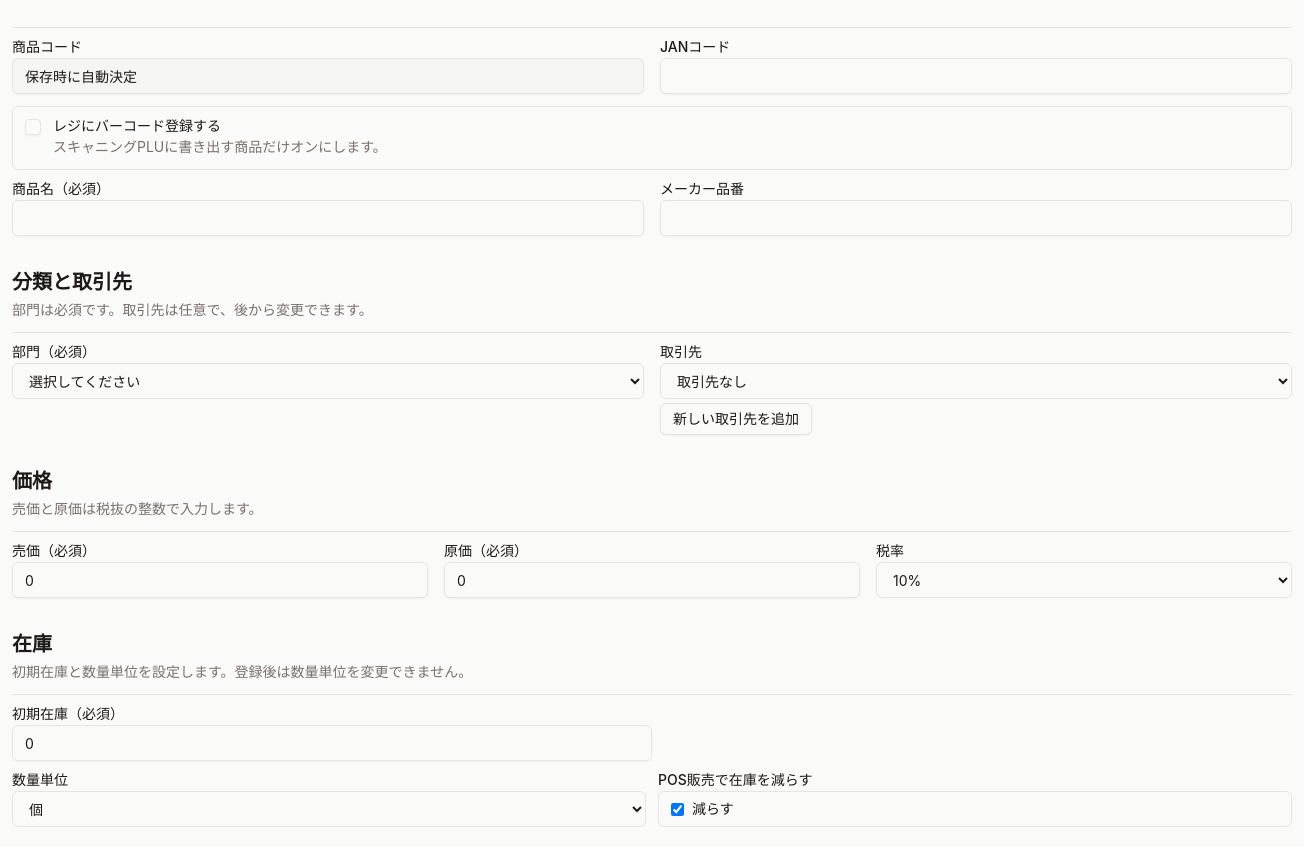
Test case: ProductForm (UI-01b) › stateful wrapper (lost-update integration) › after checkbox interaction (touched=true), unit change preserves user override
(page scrolled)
# まず checkbox を操作して touched を立てる（posStockSync を false に変更）
Click the checkbox labelled "POS販売で在庫を減らす": (678, 809) [671,802,684,816]
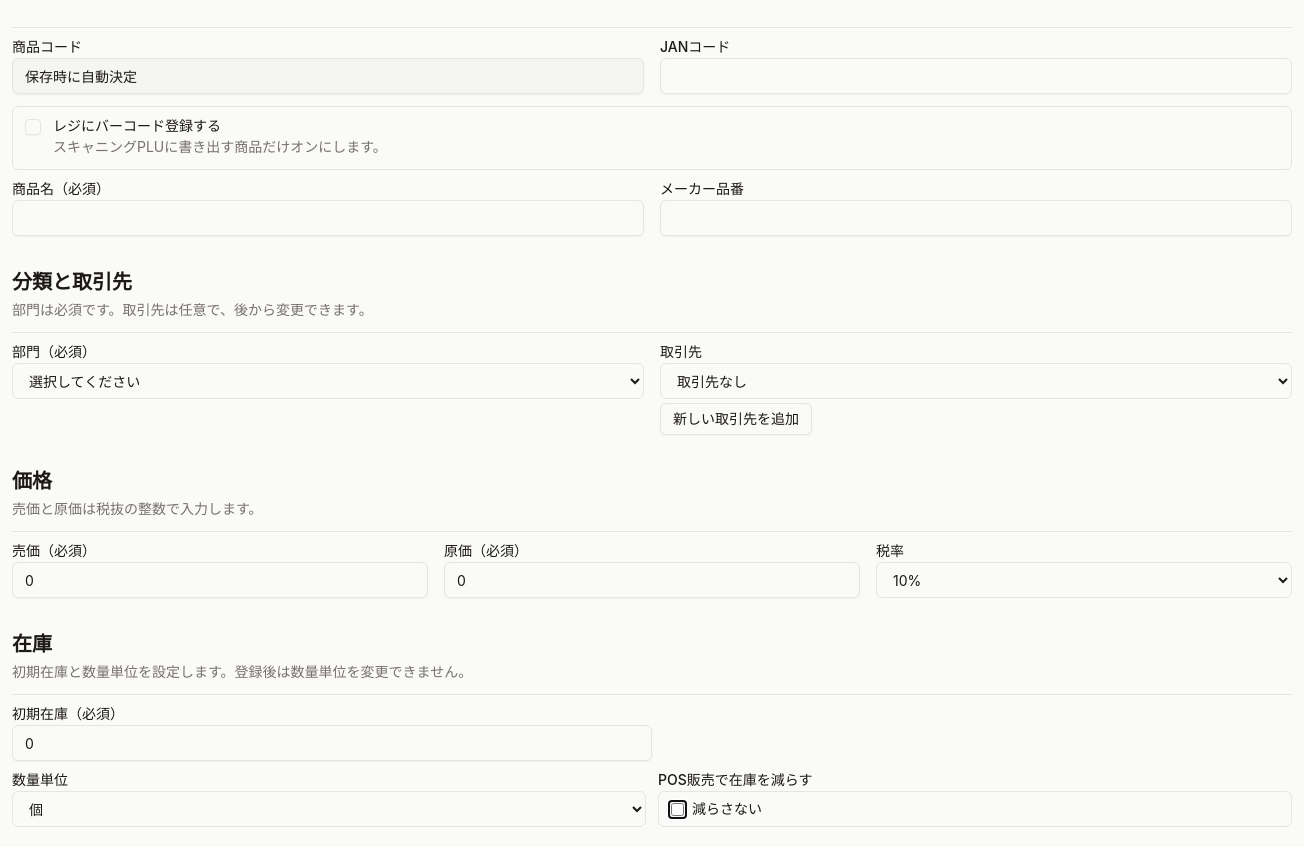
# 単位を cm に変更しても suggest が発火しないので利用者の false が保持される
Select "cm" in the dropdown labelled "数量単位": (329, 809) [12,791,646,827]
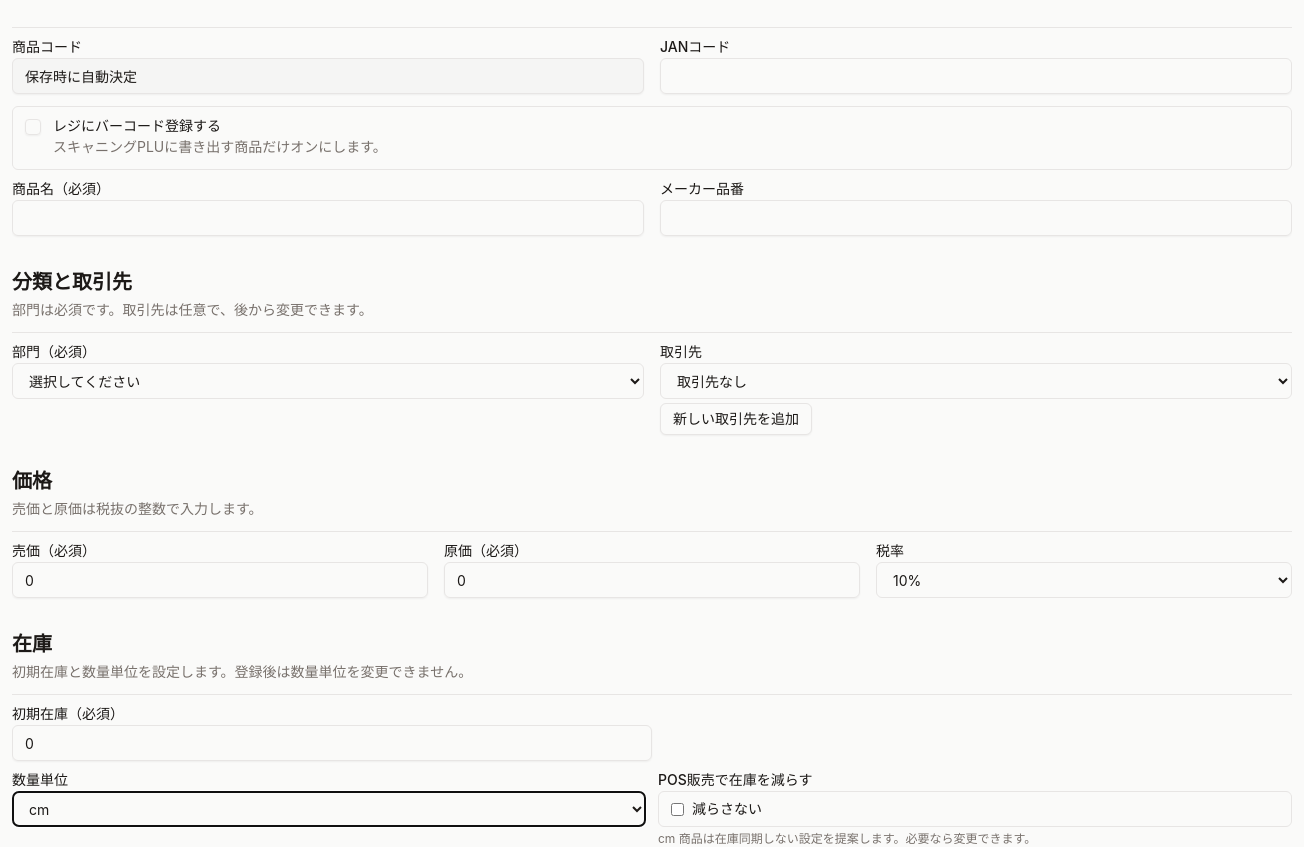
# 単位を pcs に戻しても suggest が発火しないので false のまま
Select "個" in the dropdown labelled "数量単位": (329, 809) [12,791,646,827]
(page scrolled)
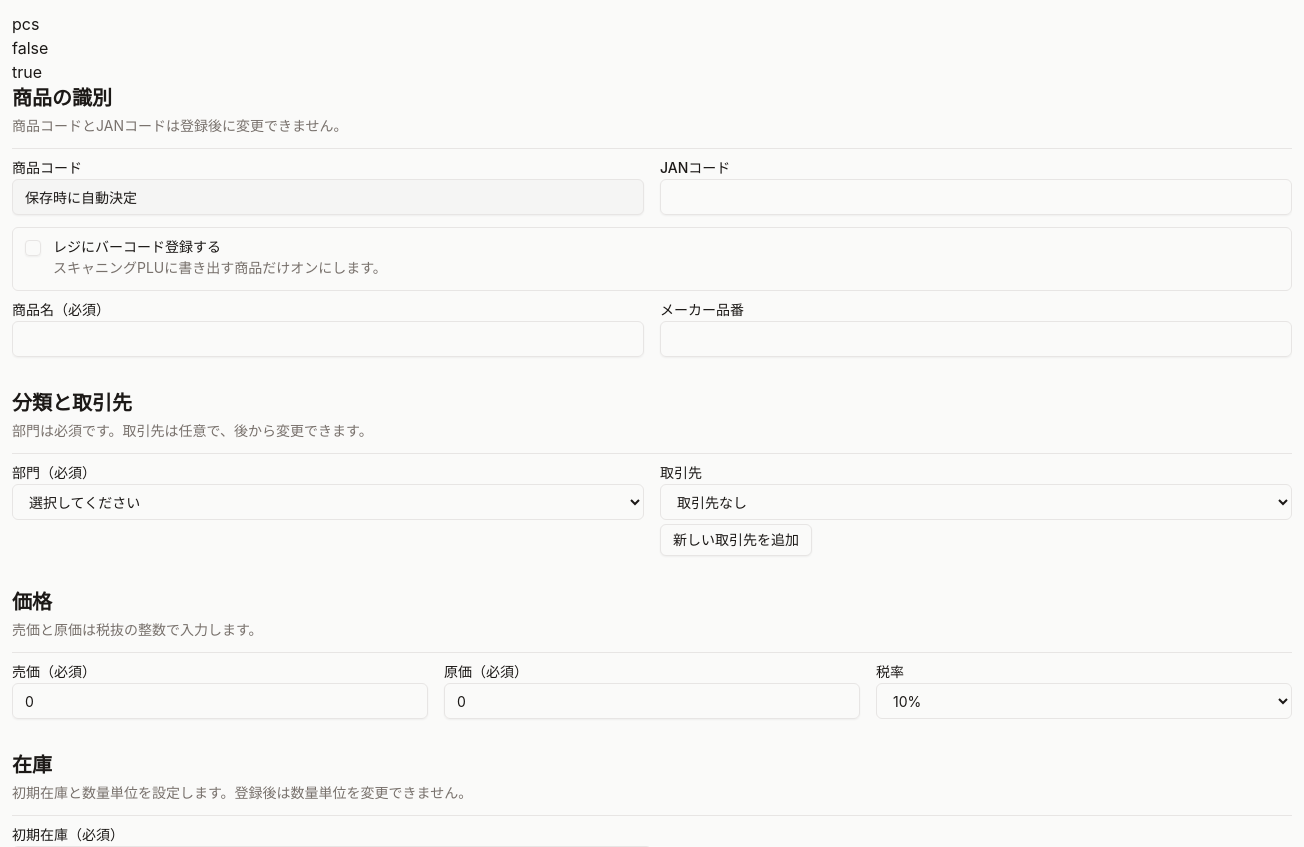
Expected: the text with test id "stock-unit" reads "pcs", [12,14,39,34]
Expected: the text with test id "pos-stock-sync" reads "false", [12,38,48,58]
